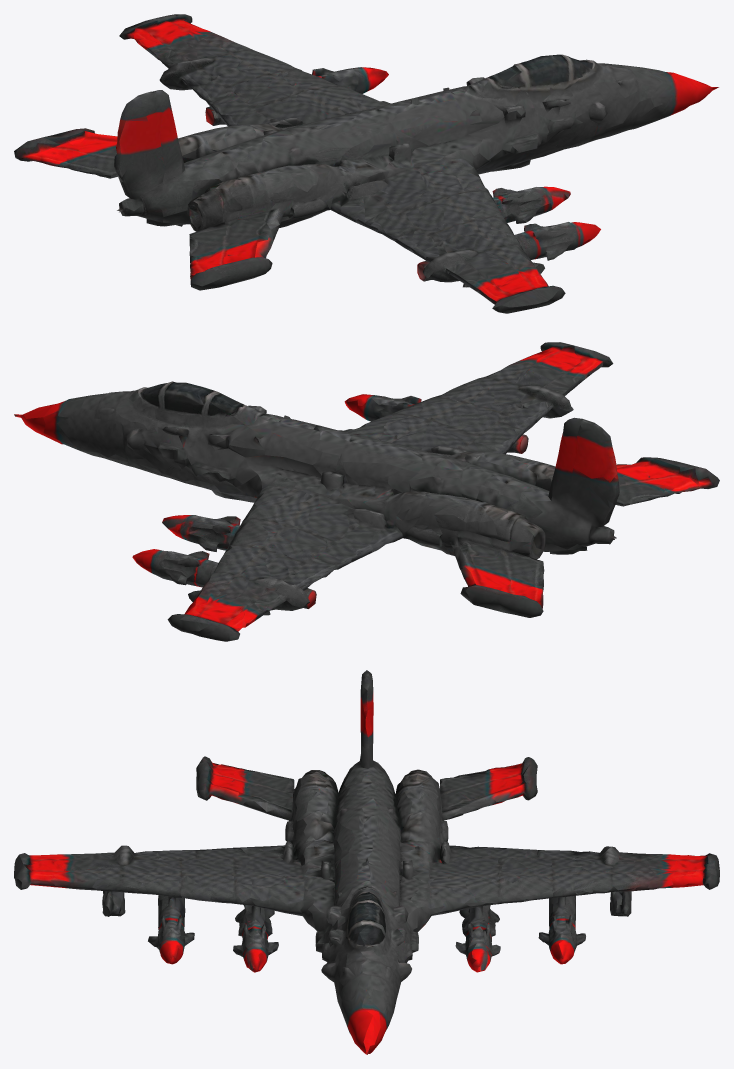
File: fh_enemy_carrier_meshy.glb
3 renders of one model, top to bottom at view 1: azimuth 30°, elevation 25°; view 2: azimuth 150°, elevation 25°; view 3: azimuth 270°, elevation 25°, orthographic. The views are drawn at different scales.
Visible parts, largest first — view 1: GLTF; view 2: GLTF; view 3: GLTF.
Boxes of the visible parts, left/top/right/bottom form: GLTF: left=14, top=14, right=718, bottom=313; GLTF: left=14, top=342, right=719, bottom=641; GLTF: left=14, top=670, right=719, bottom=1054.
Size of the model in its own units: 1 by 0.2523 by 1.07.
Materials: 1 (1 with a texture image).
